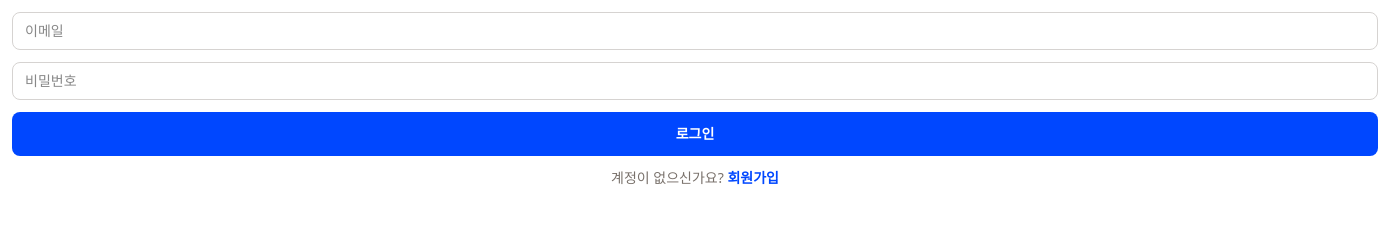
Test: AuthForm — SIGNUP mode › 에러 시 role=alert인 에러 메시지를 표시한다
This screenshot has width=1390, height=234.
Type "user@example.com" into the field with placeholder "이메일".
click(695, 31); type("user@example.com")  # box [12, 12, 1378, 50]
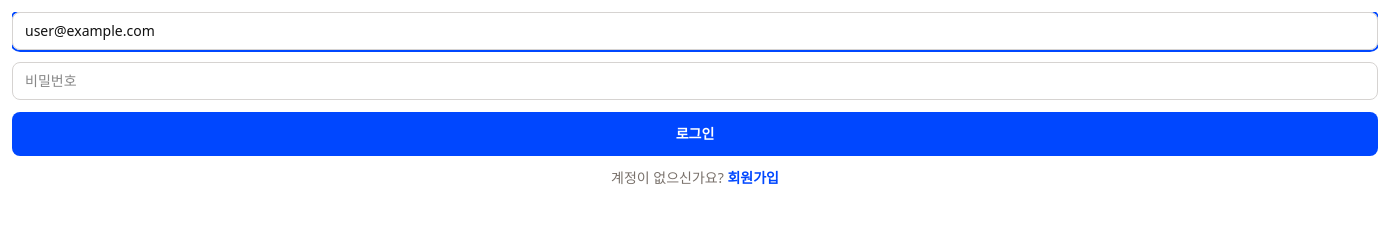
Type "wrongpass" into the password field with placeholder "비밀번호".
click(695, 81); type("wrongpass")  # box [12, 62, 1378, 100]
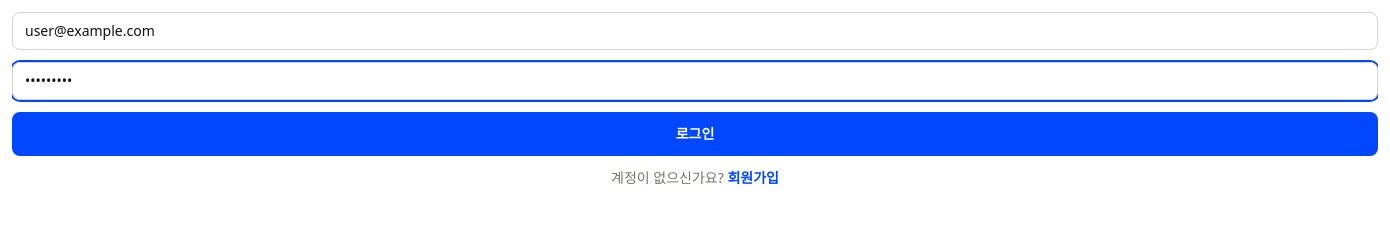
Click the button "로그인".
click(695, 134)  # box [12, 112, 1378, 156]
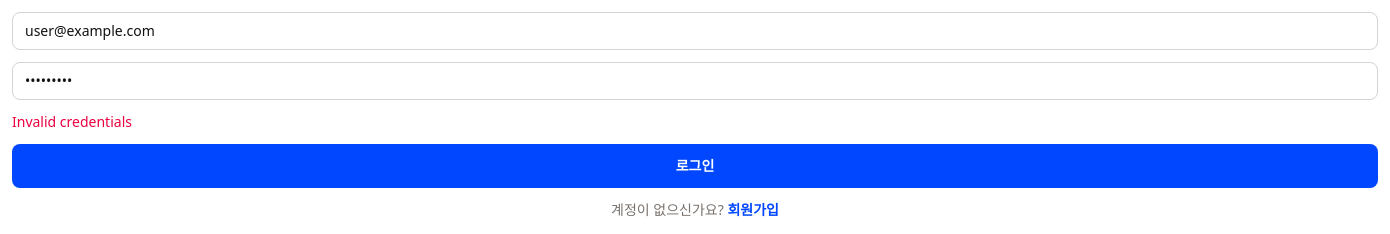
Expected: the message reads "Invalid credentials", [12, 112, 132, 131]
